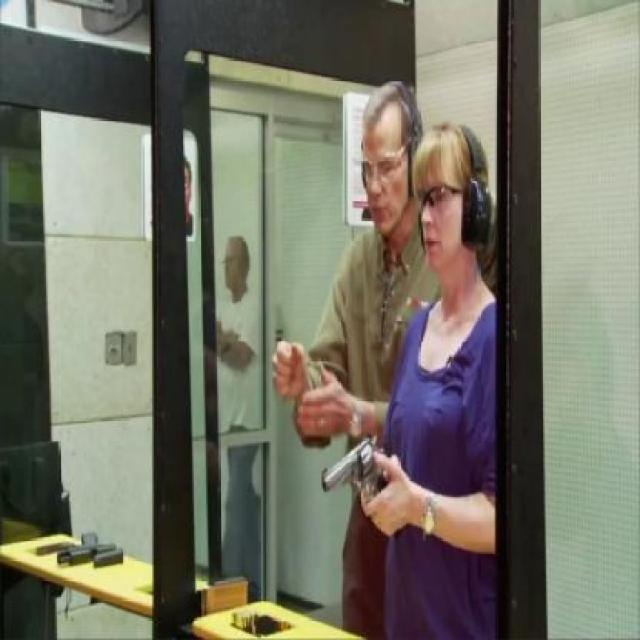gun: (320, 432, 391, 526)
